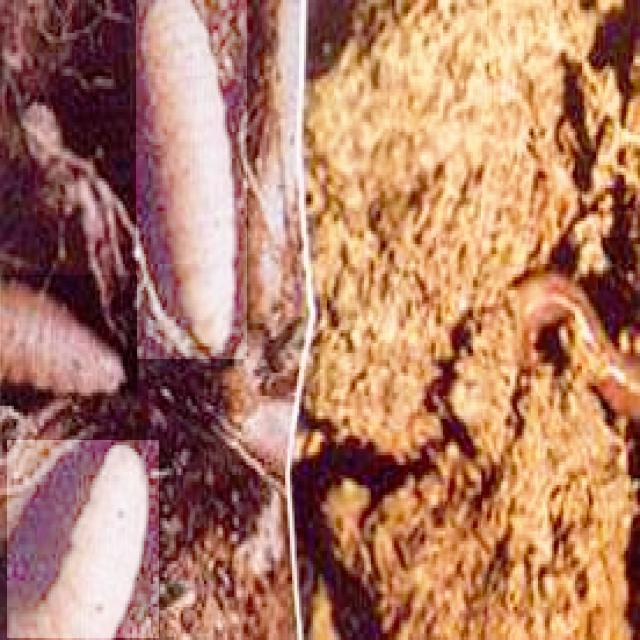whorl-maggot: (136, 0, 247, 359), (8, 441, 159, 638), (2, 276, 137, 406)
